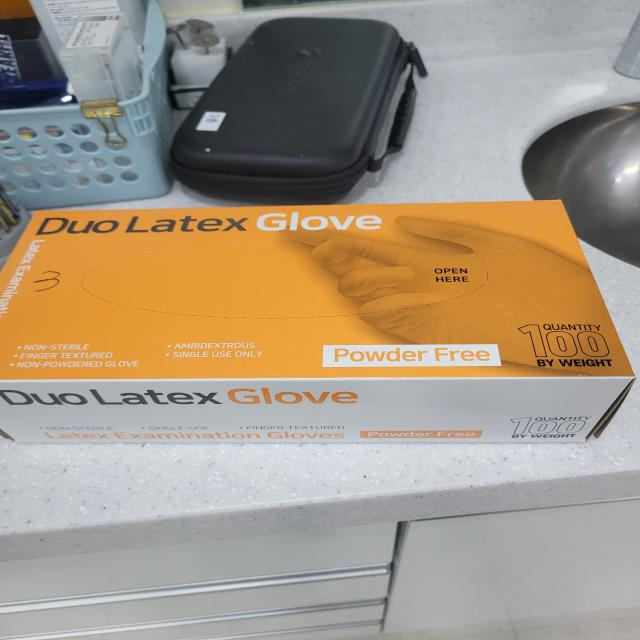glove: (5, 195, 640, 458)
